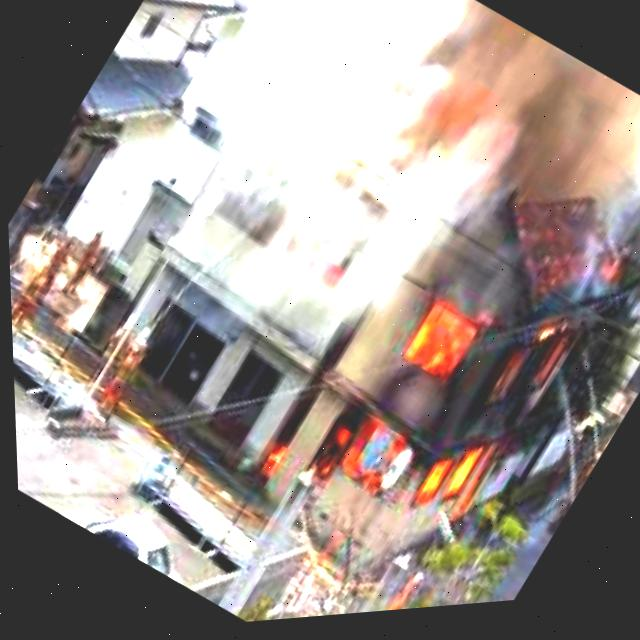Smoke: (395, 303, 483, 395), (299, 419, 360, 494), (432, 447, 484, 513), (407, 459, 452, 516), (243, 440, 288, 491)
